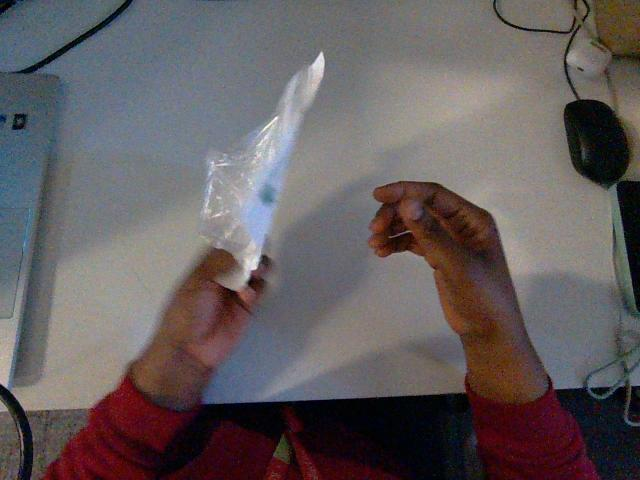gallipot: (200, 53, 324, 290)
